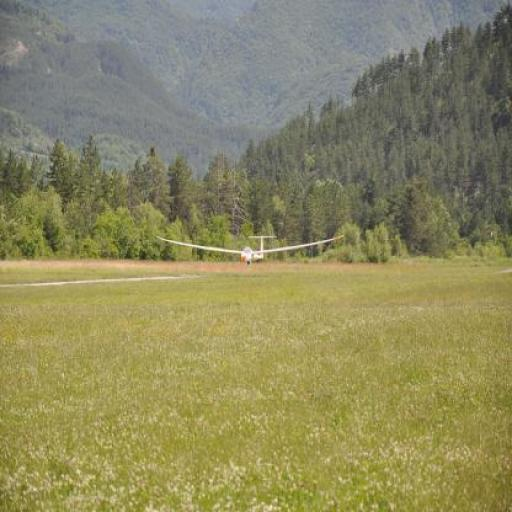aircraft: (156, 233, 344, 262)
